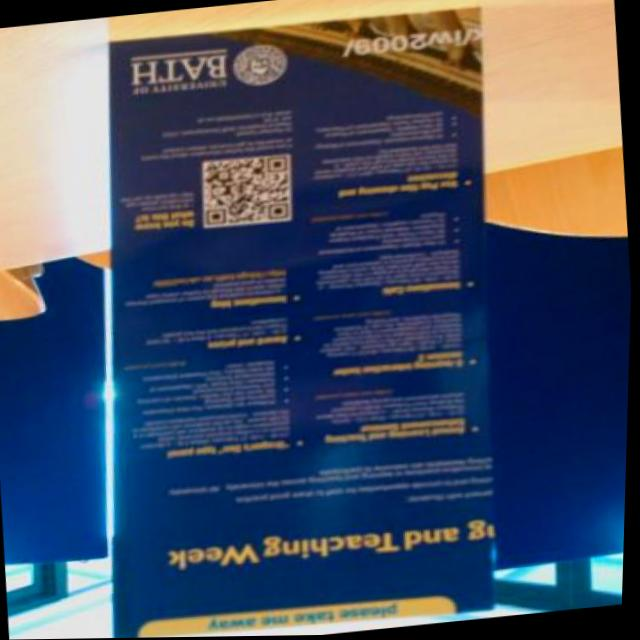qrcode: (204, 157, 292, 227)
